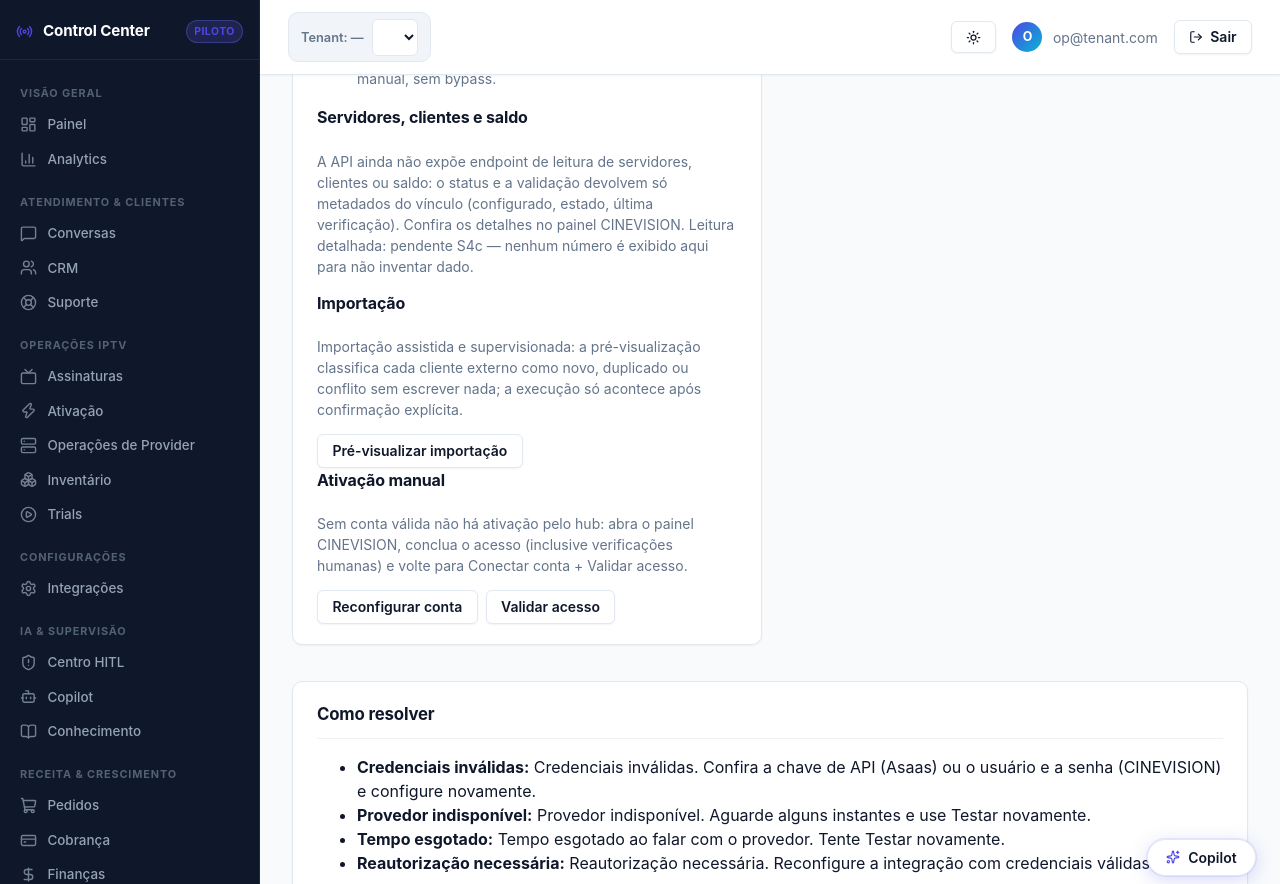
Test case: CinevisionCard (S4b, #88) › preview 404 sem vínculo vivo orienta conectar conta primeiro
The width and height of the screenshot is (1280, 884).
(page scrolled)
Click the button "Pré-visualizar importação" at (420, 451), box [317,434,523,468]
(page scrolled)
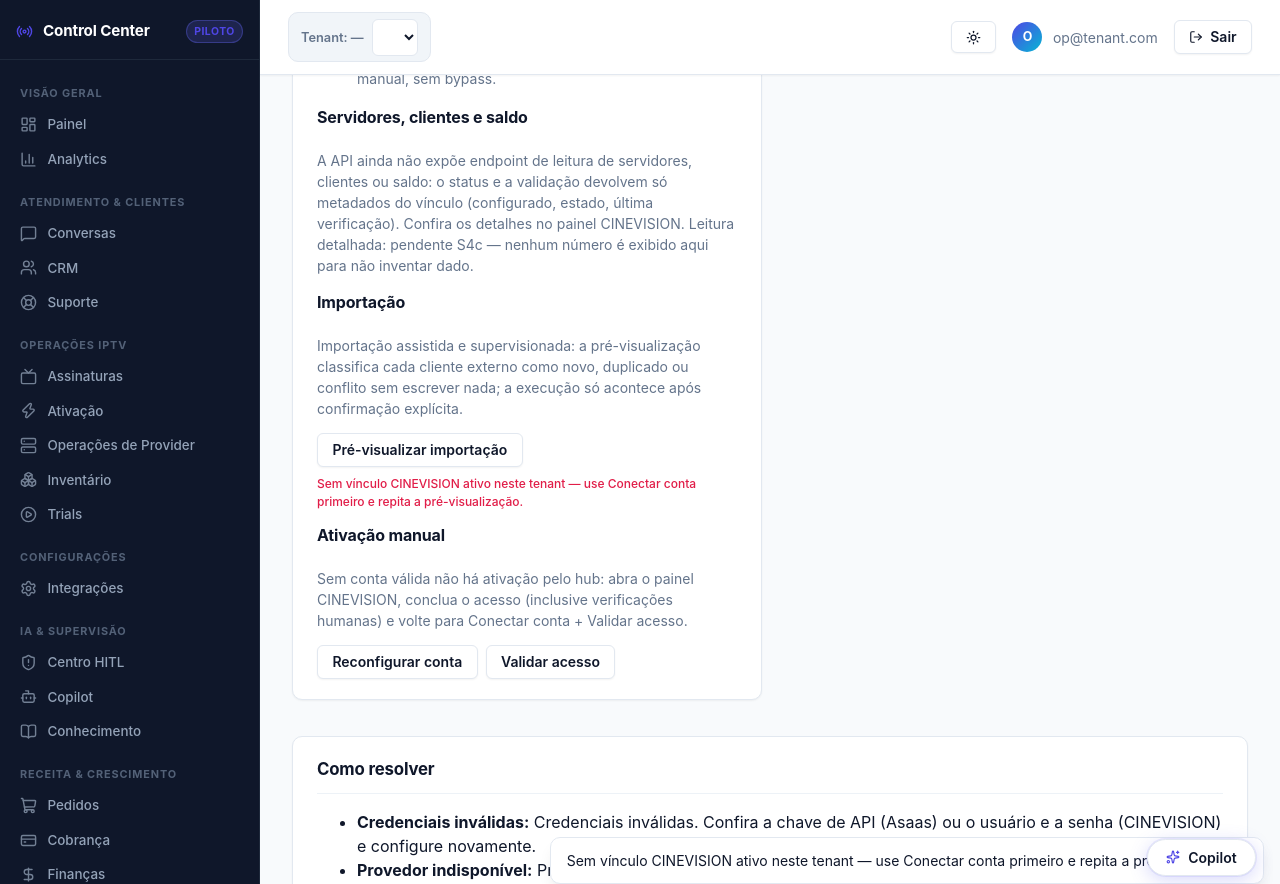
Expected: the 1st text "use Conectar conta primeiro" is shown, [317,476,696,509]
